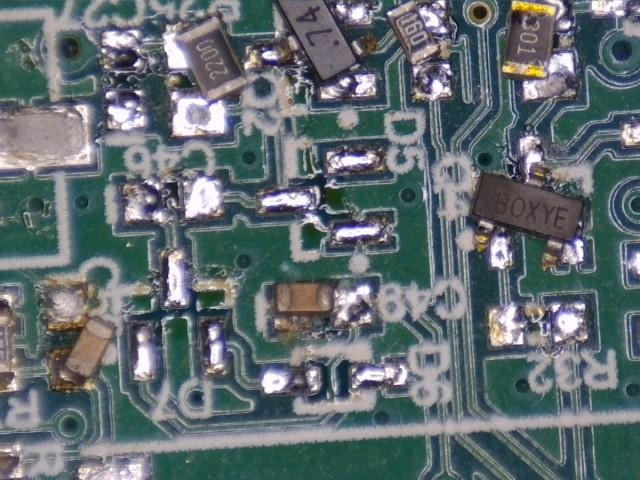pcb_defect: (468, 135, 585, 271), (247, 0, 379, 99), (165, 14, 250, 138), (44, 283, 116, 389), (502, 0, 576, 101), (386, 0, 451, 99), (271, 282, 378, 332)
